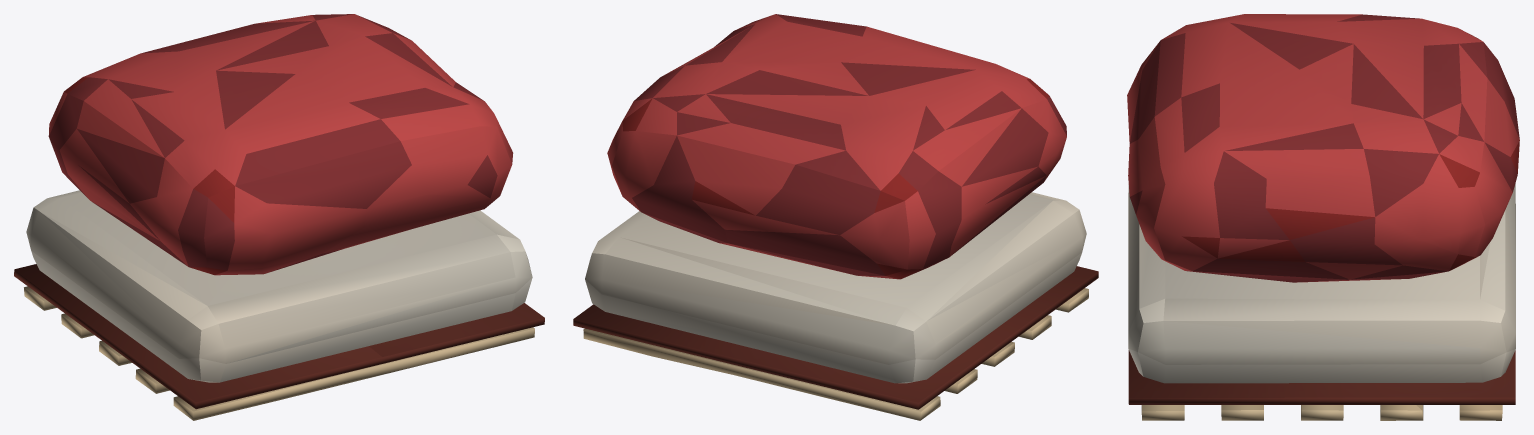
File: den_bed_body_lod2.glb
3 views of the same model, side by side, from view 1: azimuth 30°, elevation 25°; view 2: azimuth 150°, elevation 25°; view 3: azimuth 270°, elevation 25° (orthographic). The views are drawn at different scales.
Visible parts, largest first — view 1: den_bed_body.001; view 2: den_bed_body.001; view 3: den_bed_body.001.
Part boxes in pixels (left/top/right/bottom): den_bed_body.001: left=14, top=14, right=544, bottom=420; den_bed_body.001: left=573, top=14, right=1098, bottom=420; den_bed_body.001: left=1127, top=14, right=1519, bottom=420.
Bounding box in the file's own units: 31.73 × 21.26 × 28.39.
